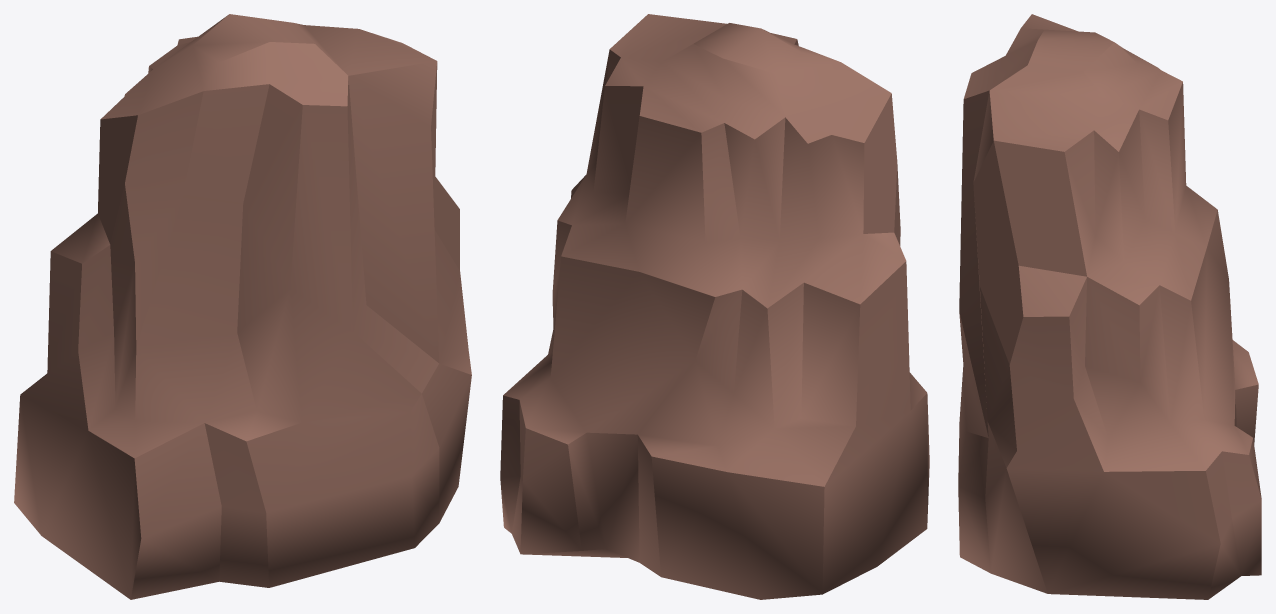
Rendered from Rock_skala.fbx.
3 renders of one model, left to right at view 1: azimuth 30°, elevation 25°; view 2: azimuth 150°, elevation 25°; view 3: azimuth 270°, elevation 25°, orthographic. The views are drawn at different scales.
Parts seen in each view (by area): view 1: Plane.009; view 2: Plane.009; view 3: Plane.009.
Part boxes in pixels (x1=…): Plane.009: x1=14, y1=14, x2=471, y2=599; Plane.009: x1=500, y1=14, x2=929, y2=599; Plane.009: x1=958, y1=14, x2=1261, y2=599.
Bounding box in the file's own units: 1388 × 1822 × 1053.
